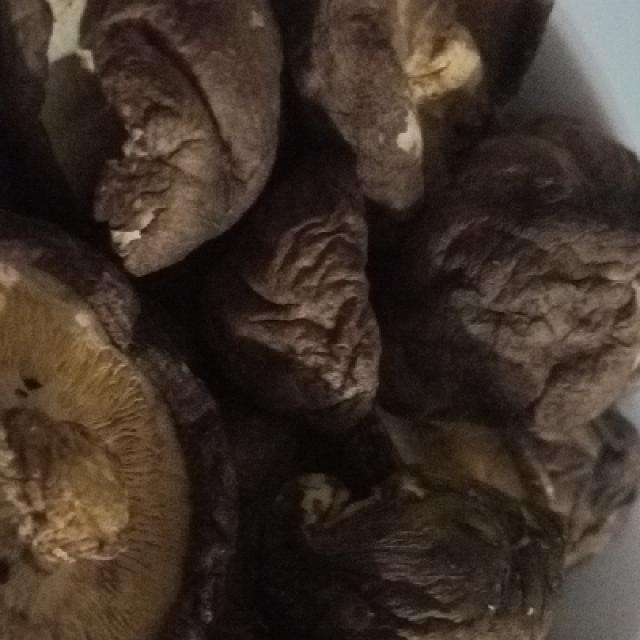Lentinus edodes: (0, 235, 236, 640), (79, 2, 288, 276)
